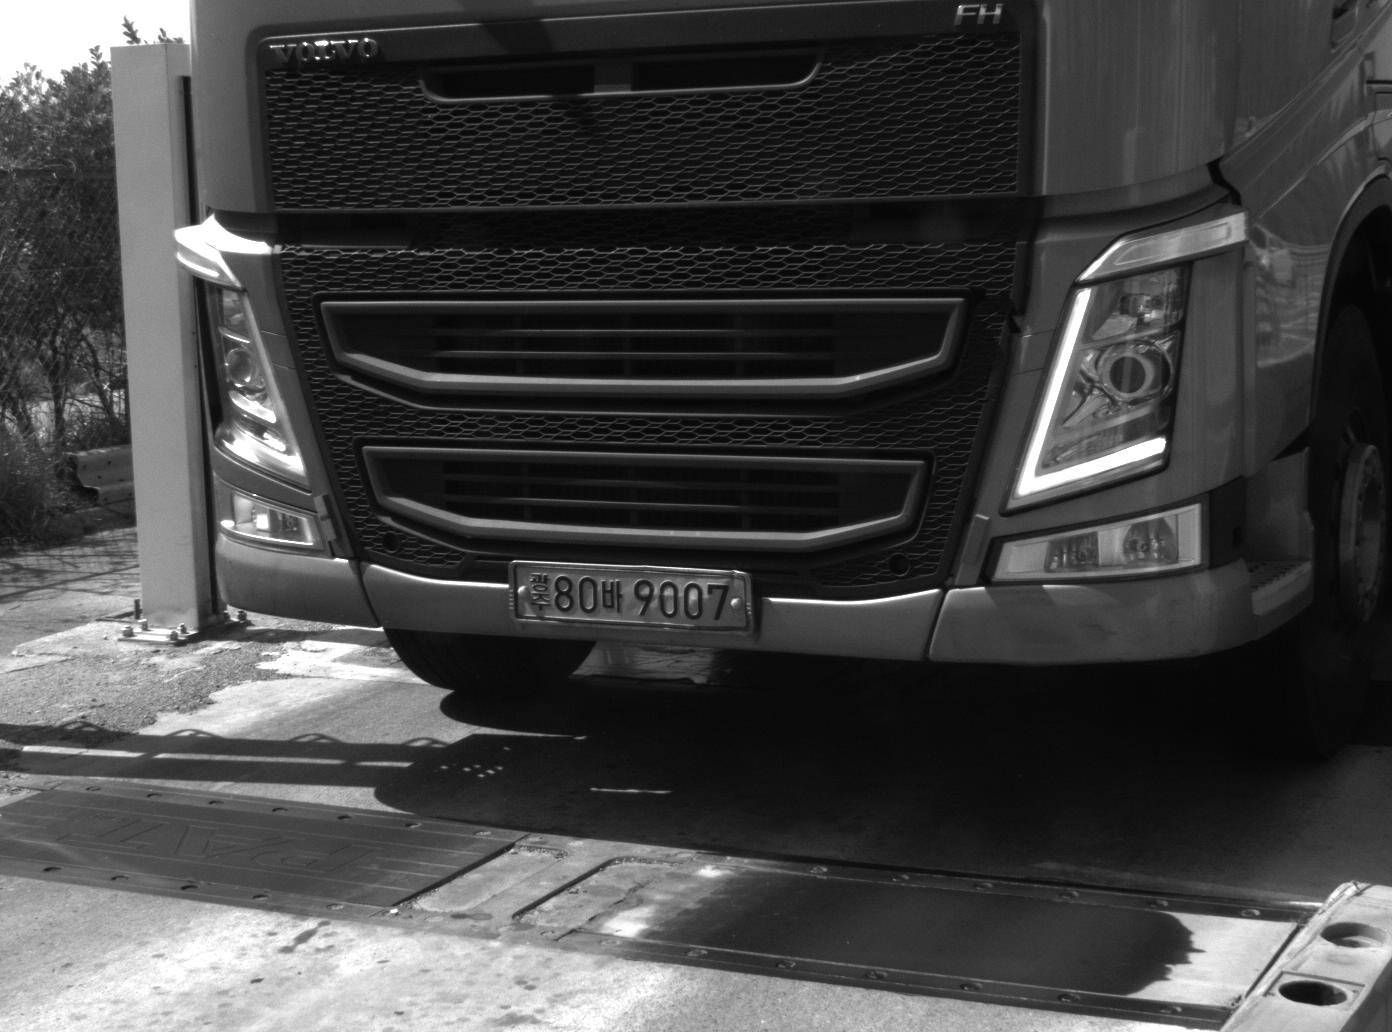car: (161, 1, 1390, 707)
plate: (506, 556, 758, 636)
